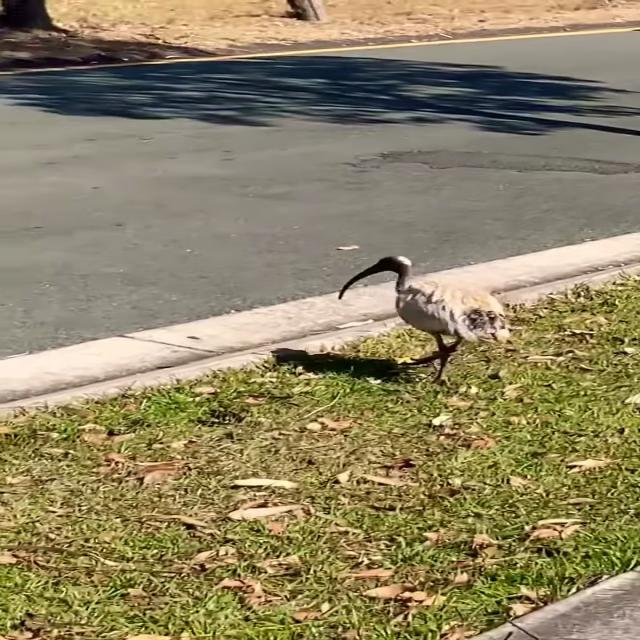Birds-Ibis: (331, 250, 520, 391)
